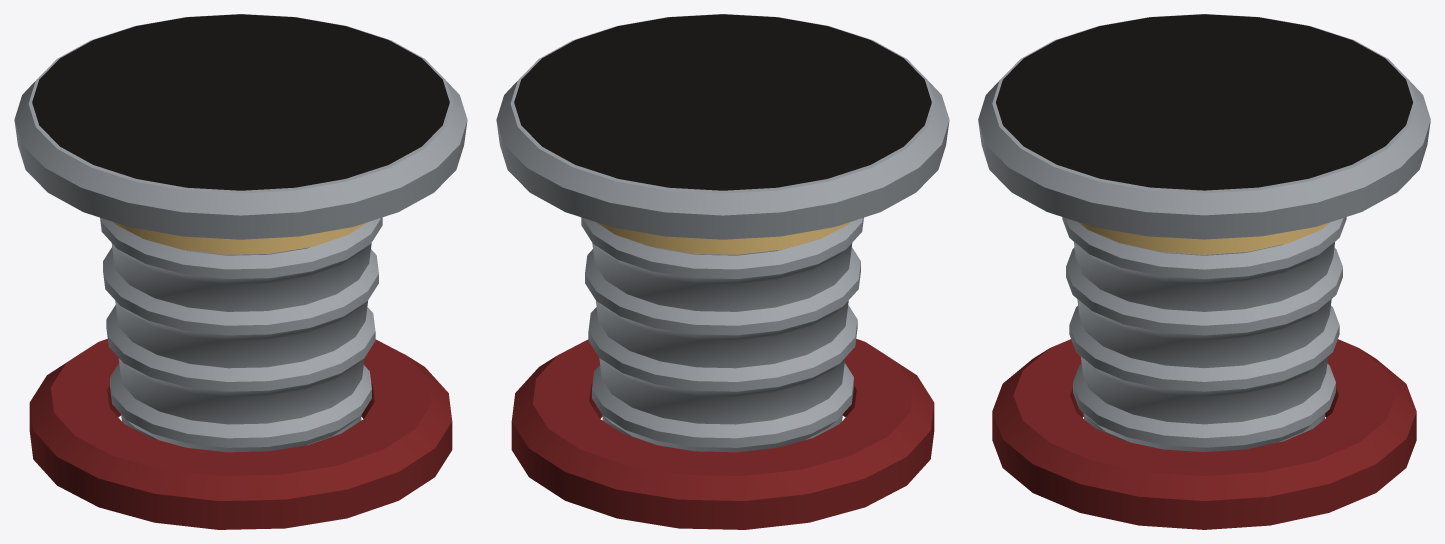
File: bumper_can.glb
3 renders of one model, left to right at view 1: azimuth 30°, elevation 25°; view 2: azimuth 150°, elevation 25°; view 3: azimuth 270°, elevation 25°, orthographic.
Parts seen in each view (by area): view 1: ArtLid, Body, Skirt, Lid, LampBand; view 2: ArtLid, Body, Skirt, Lid, LampBand; view 3: ArtLid, Body, Skirt, Lid, LampBand.
Part boxes in pixels (left/top/right/bottom): ArtLid: left=32, top=14, right=449, bottom=190; Body: left=100, top=217, right=382, bottom=452; Skirt: left=29, top=339, right=452, bottom=529; Lid: left=14, top=14, right=467, bottom=239; LampBand: left=113, top=222, right=367, bottom=254; ArtLid: left=514, top=14, right=931, bottom=190; Body: left=581, top=217, right=863, bottom=452; Skirt: left=511, top=339, right=934, bottom=529; Lid: left=496, top=14, right=949, bottom=239; LampBand: left=596, top=222, right=850, bottom=254; ArtLid: left=996, top=14, right=1412, bottom=190; Body: left=1062, top=217, right=1346, bottom=452; Skirt: left=992, top=339, right=1416, bottom=529; Lid: left=978, top=14, right=1430, bottom=239; LampBand: left=1079, top=222, right=1329, bottom=254.
Bounding box in the file's own units: 0.64 × 0.527 × 0.64.
